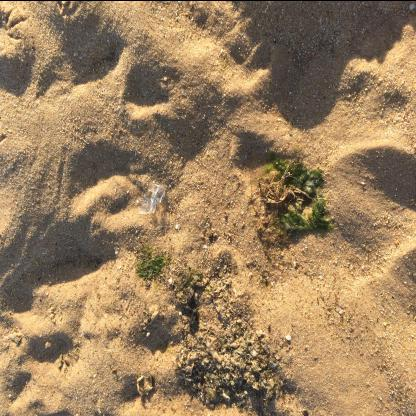plastik: (137, 180, 165, 214)
